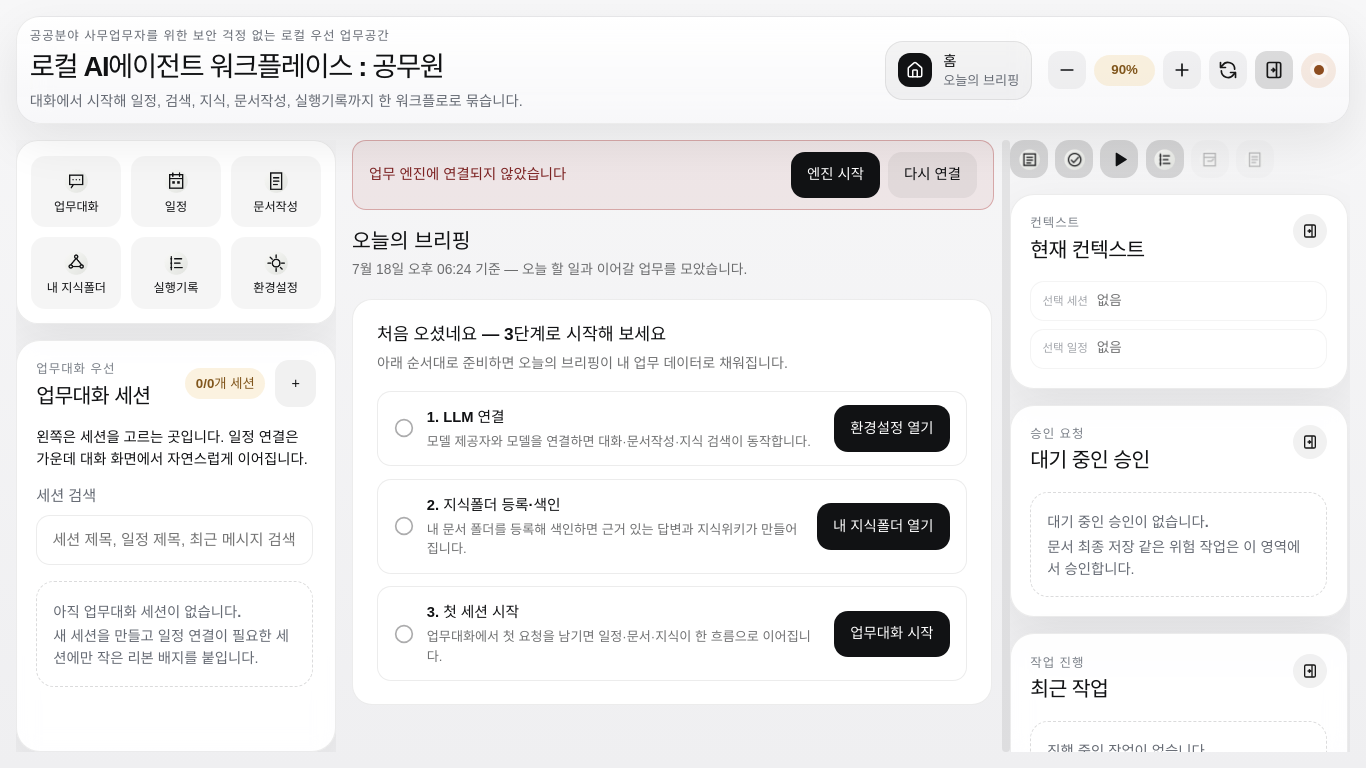
session to documents authoring workflow › shows the return chip and goes back to the originating chat session (W5-2)
Click the button "업무대화".
click(76, 192)  # box [31,156,121,227]
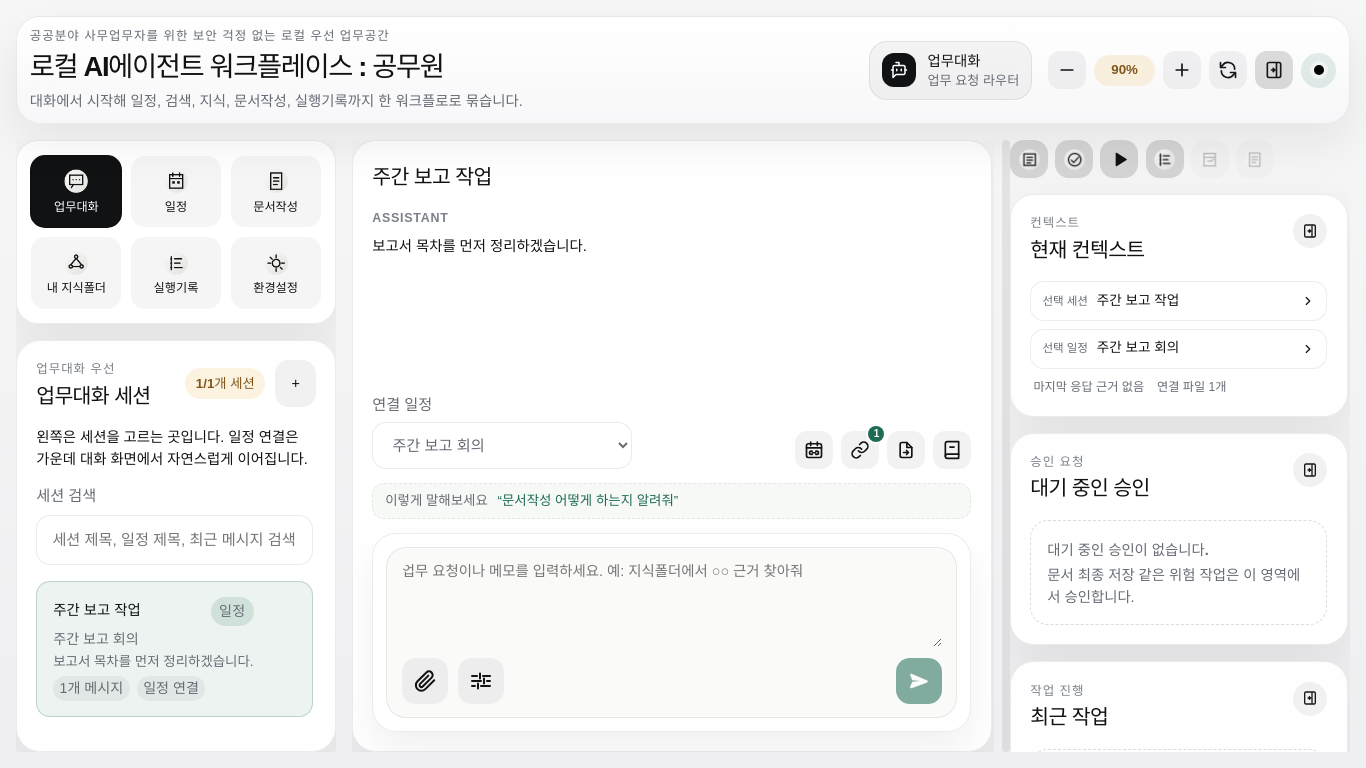
Check: the element with test id "chat-workspace" is shown, box [372,209,971,732]
Click the button named "문서작성으로 이어가기".
click(906, 450)  # box [887,431,925,469]
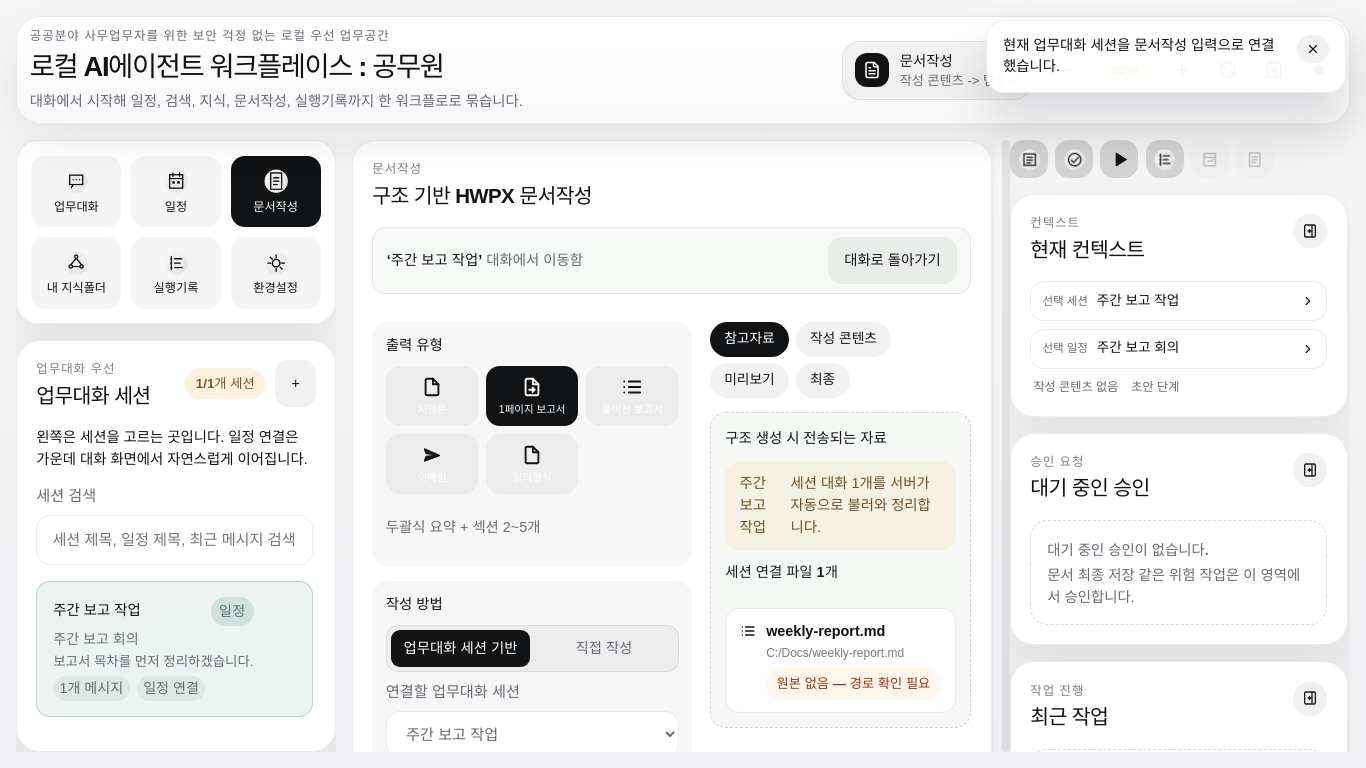
Check: the element with test id "documents-chat-return-chip" shows "주간 보고 작업", box [391,252,478,268]
Check: the element with test id "documents-chat-return-chip" shows "대화에서 이동함", box [482,252,583,268]
Click the button with test id "documents-chat-return-button".
click(892, 260)  # box [828,237,957,284]
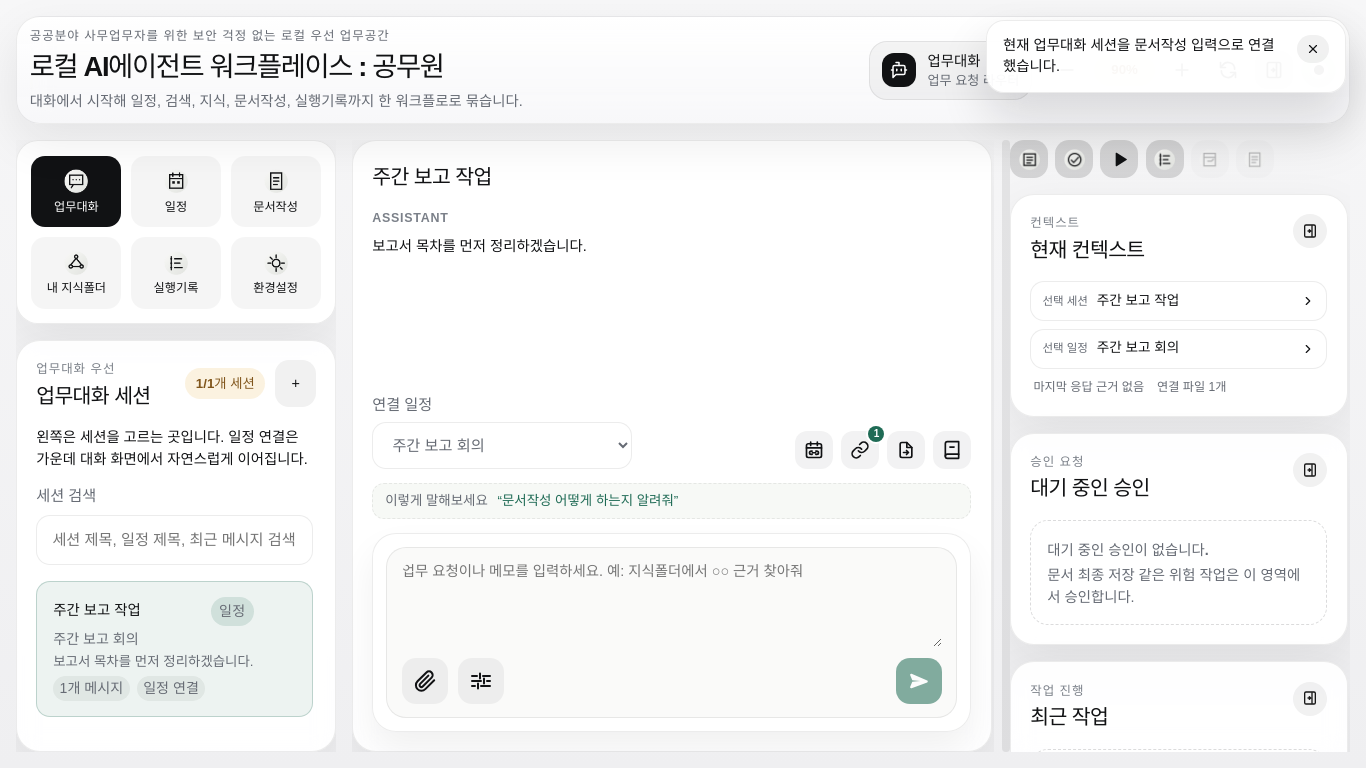
Check: the element with test id "chat-workspace" is shown, box [372,209,971,732]
Click the button "문서작성".
click(276, 192)  # box [231,156,321,227]
(page scrolled)
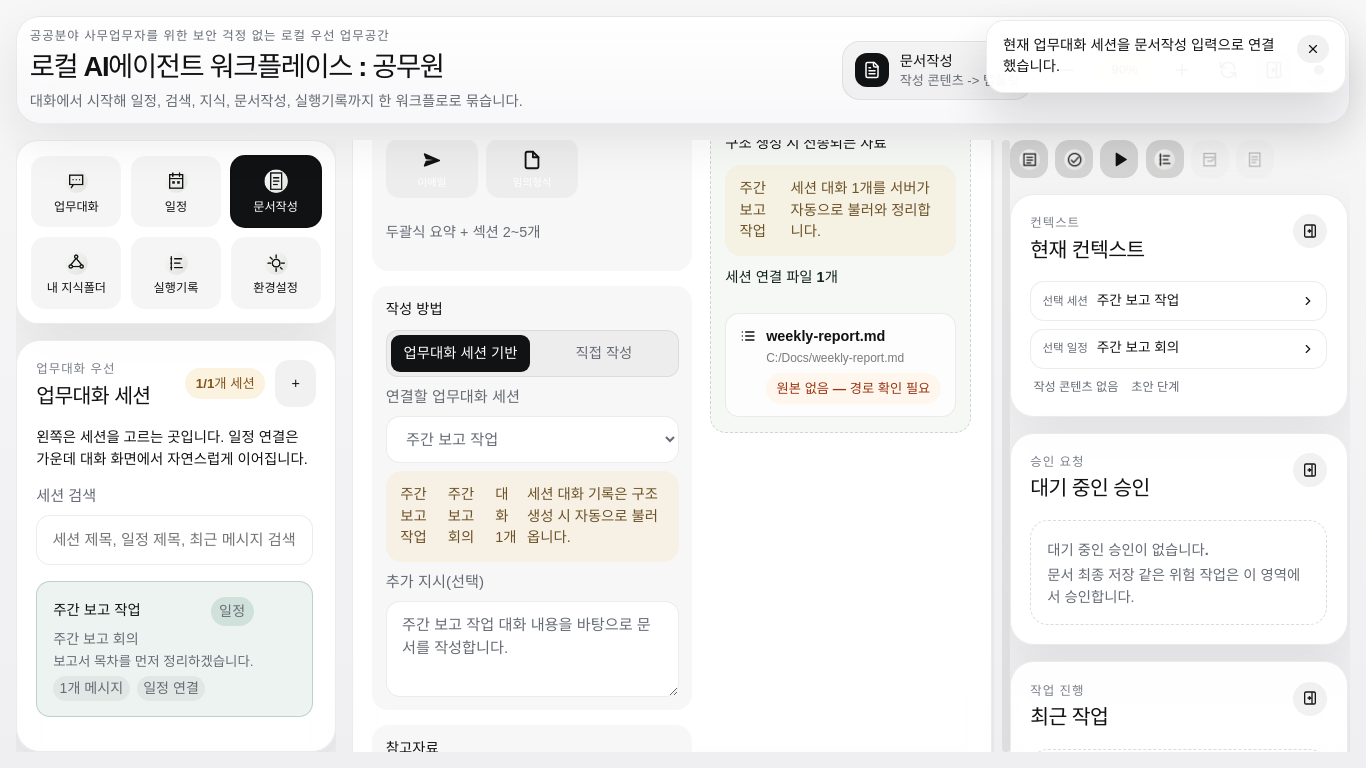
Check: the element with test id "document-authoring-workspace" is shown, box [352,140,992,752]
